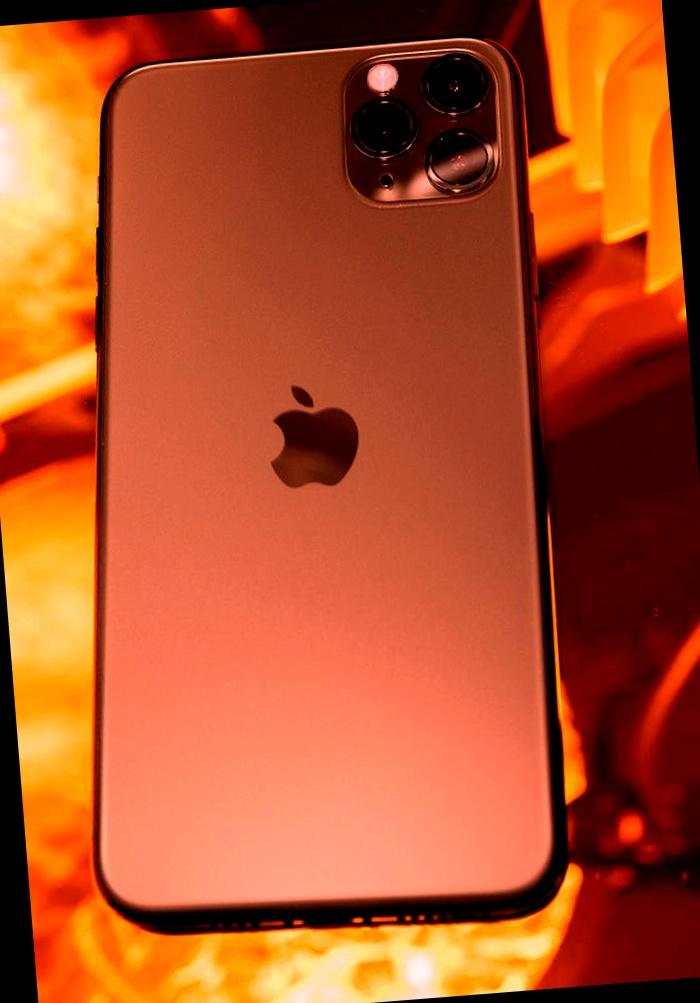iphone: (146, 45, 636, 934)
